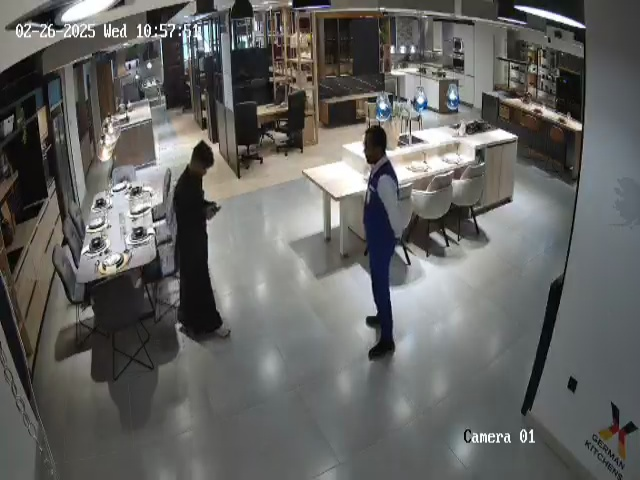employee: (362, 126, 403, 362)
male: (172, 140, 231, 341)
